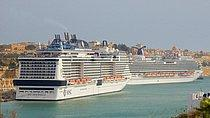Ship: (11, 32, 137, 104), (123, 50, 209, 88)
